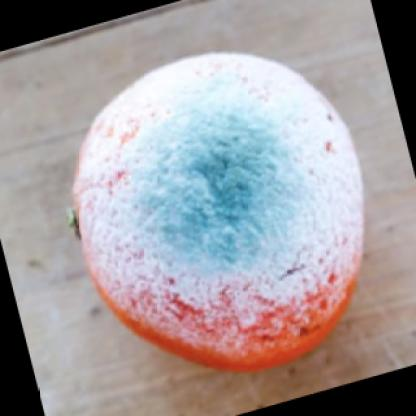rotten: (81, 58, 365, 377)
